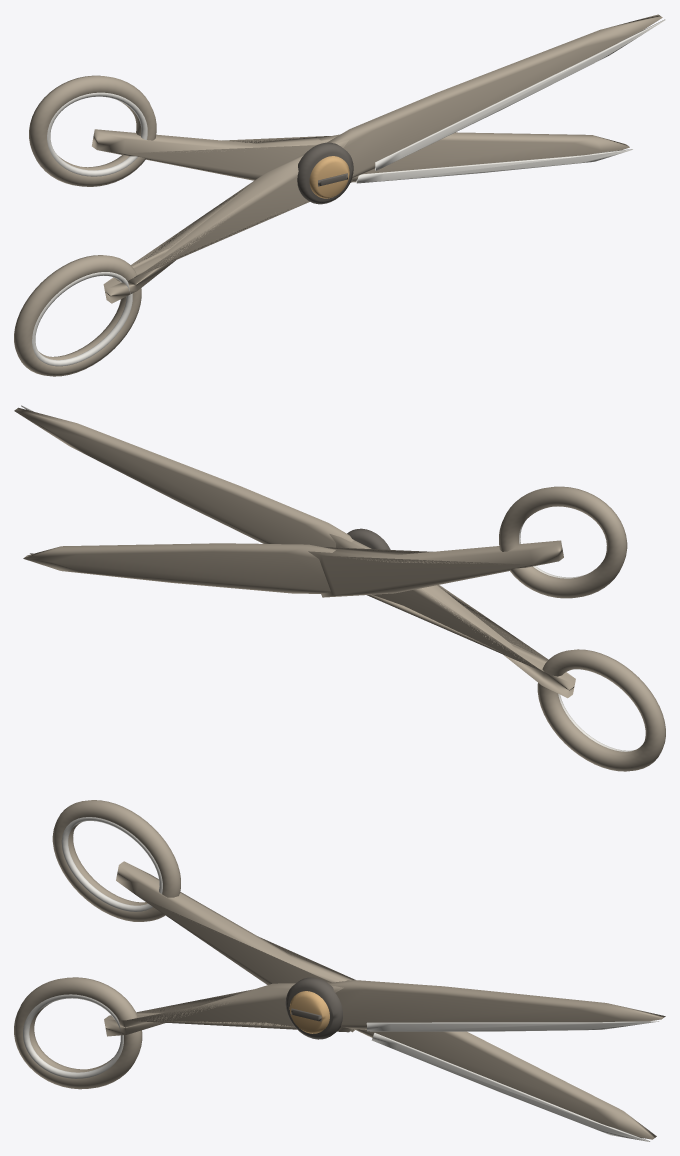
The model's file is scissors.glb.
3 renders of one model, top to bottom at view 1: azimuth 30°, elevation 25°; view 2: azimuth 150°, elevation 25°; view 3: azimuth 330°, elevation 25°, orthographic.
Size of the model in its own units: 5.67 by 2.36 by 0.4925.
